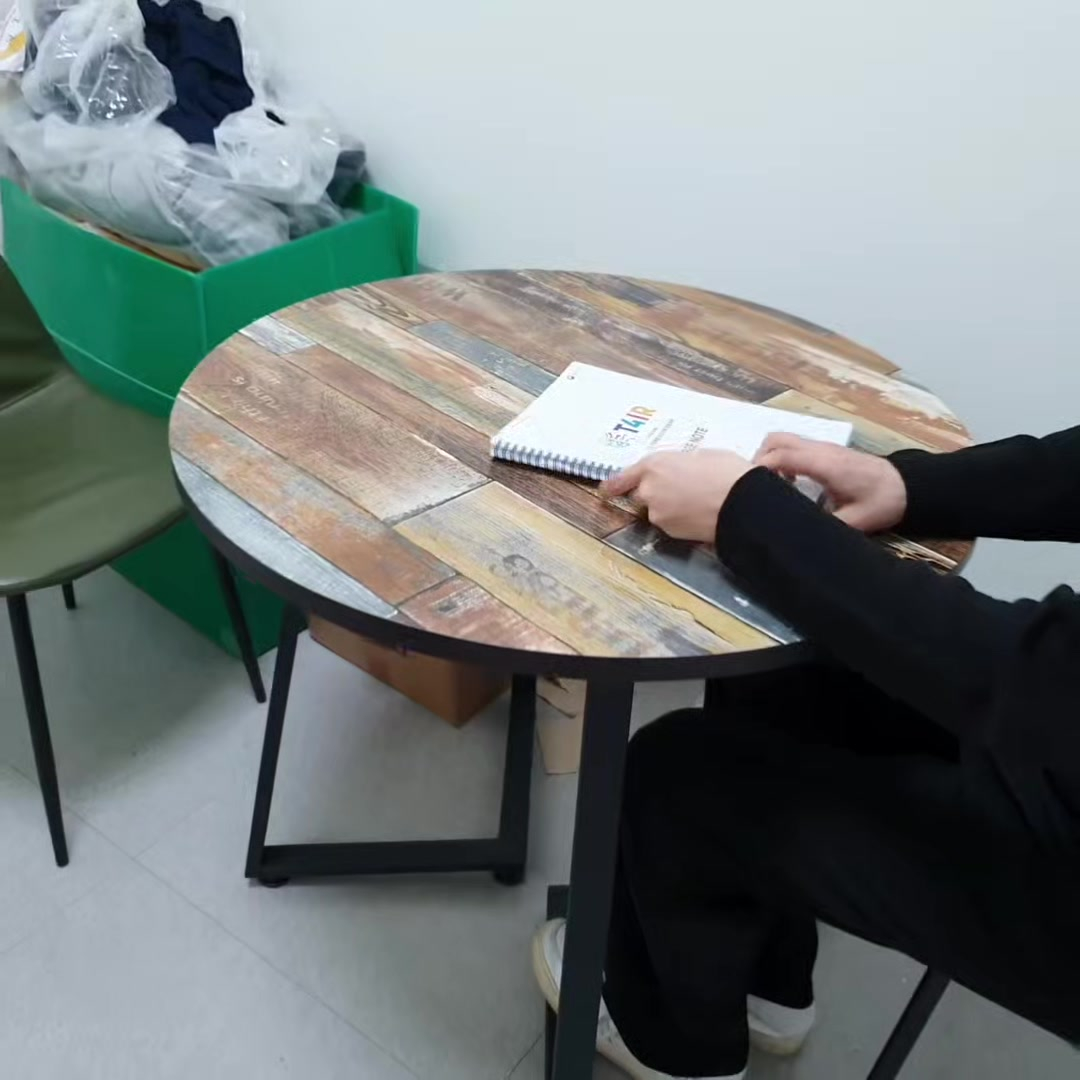book: (480, 358, 860, 511)
